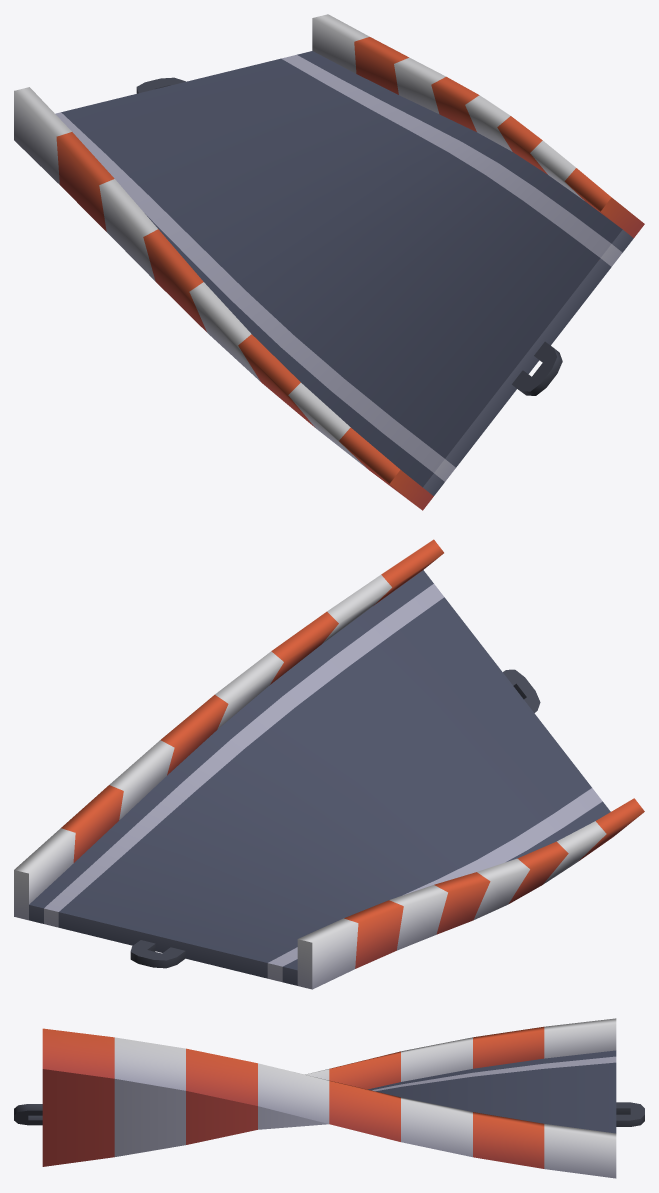
Rendered from track-road-wide-straight-skew-right.glb.
3 views of the same model, one above another, from view 1: azimuth 30°, elevation 25°; view 2: azimuth 150°, elevation 25°; view 3: azimuth 270°, elevation 25° (orthographic). The views are drawn at different scales.
Visible parts, largest first — view 1: track-road-wide-straight-skew-right; view 2: track-road-wide-straight-skew-right; view 3: track-road-wide-straight-skew-right.
Boxes of the visible parts, box(x1,y1,x2,y2) form: track-road-wide-straight-skew-right: box(14, 14, 644, 510); track-road-wide-straight-skew-right: box(14, 539, 644, 989); track-road-wide-straight-skew-right: box(14, 1018, 644, 1178).
Size of the model in its own units: 2.04 by 1.63 by 4.4.
